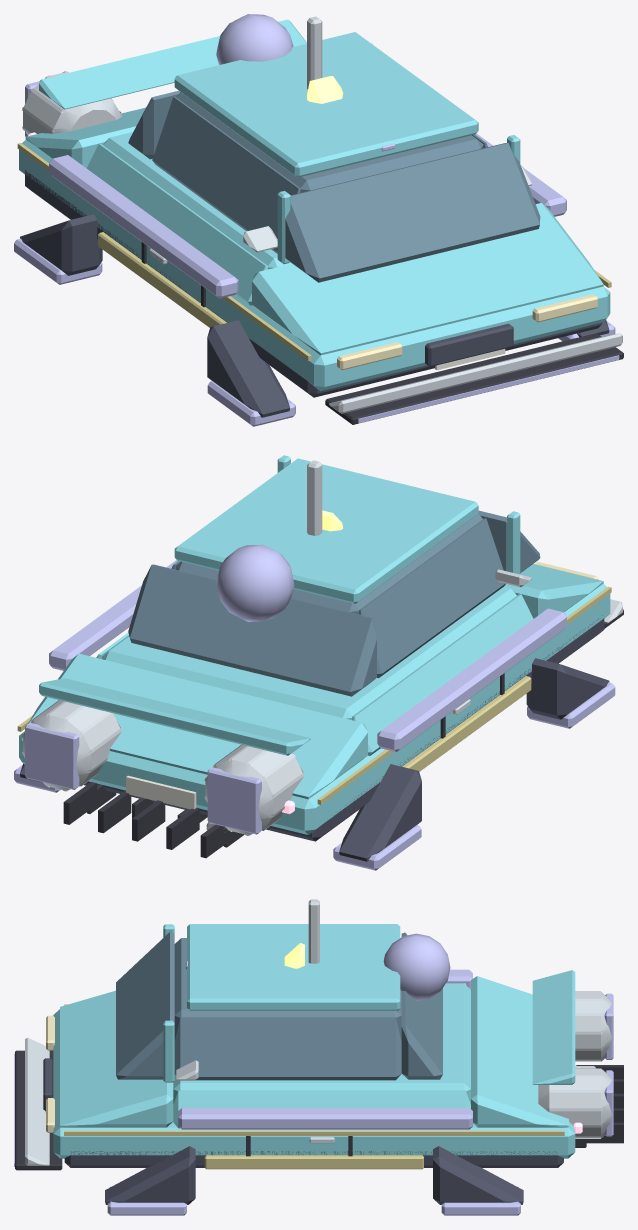
Rendered from nova_navigator.fbx.
3 renders of one model, top to bottom at view 1: azimuth 30°, elevation 25°; view 2: azimuth 150°, elevation 25°; view 3: azimuth 270°, elevation 25°, orthographic. The views are drawn at different scales.
Parts seen in each view (by area): view 1: Body, Glass, Light, Trim2, Accent, Trim, Accent2, Light2, Light4; view 2: Body, Glass, Light, Trim2, Accent, Trim, Accent2, Accent3; view 3: Body, Glass, Light, Trim2, Accent, Accent2, Trim, Light2.
Boxes of the visible parts, x1,y1,x2,y2 form: Body: (19,19,610,390); Glass: (128,90,540,282); Light: (14,14,619,426); Trim2: (20,170,609,417); Accent: (22,16,622,413); Trim: (141,242,623,424); Accent2: (17,143,611,360); Light2: (337,294,598,370); Light4: (307,76,343,103); Body: (19,455,610,834); Glass: (128,464,540,696); Light: (14,544,615,870); Trim2: (20,615,609,861); Accent: (22,460,622,835); Trim: (63,609,623,858); Accent2: (17,586,611,804); Accent3: (126,775,196,809); Body: (53,924,575,1158); Glass: (116,932,442,1080); Light: (14,933,613,1215); Trim2: (43,1058,563,1204); Accent: (25,899,611,1165); Accent2: (64,1004,564,1169); Trim: (15,1050,623,1170); Light2: (46,1015,54,1132).
Size of the model in its own units: 3.2 by 2.33 by 5.38.
